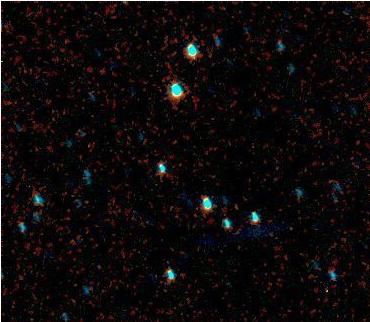star: (148, 249, 178, 279)
